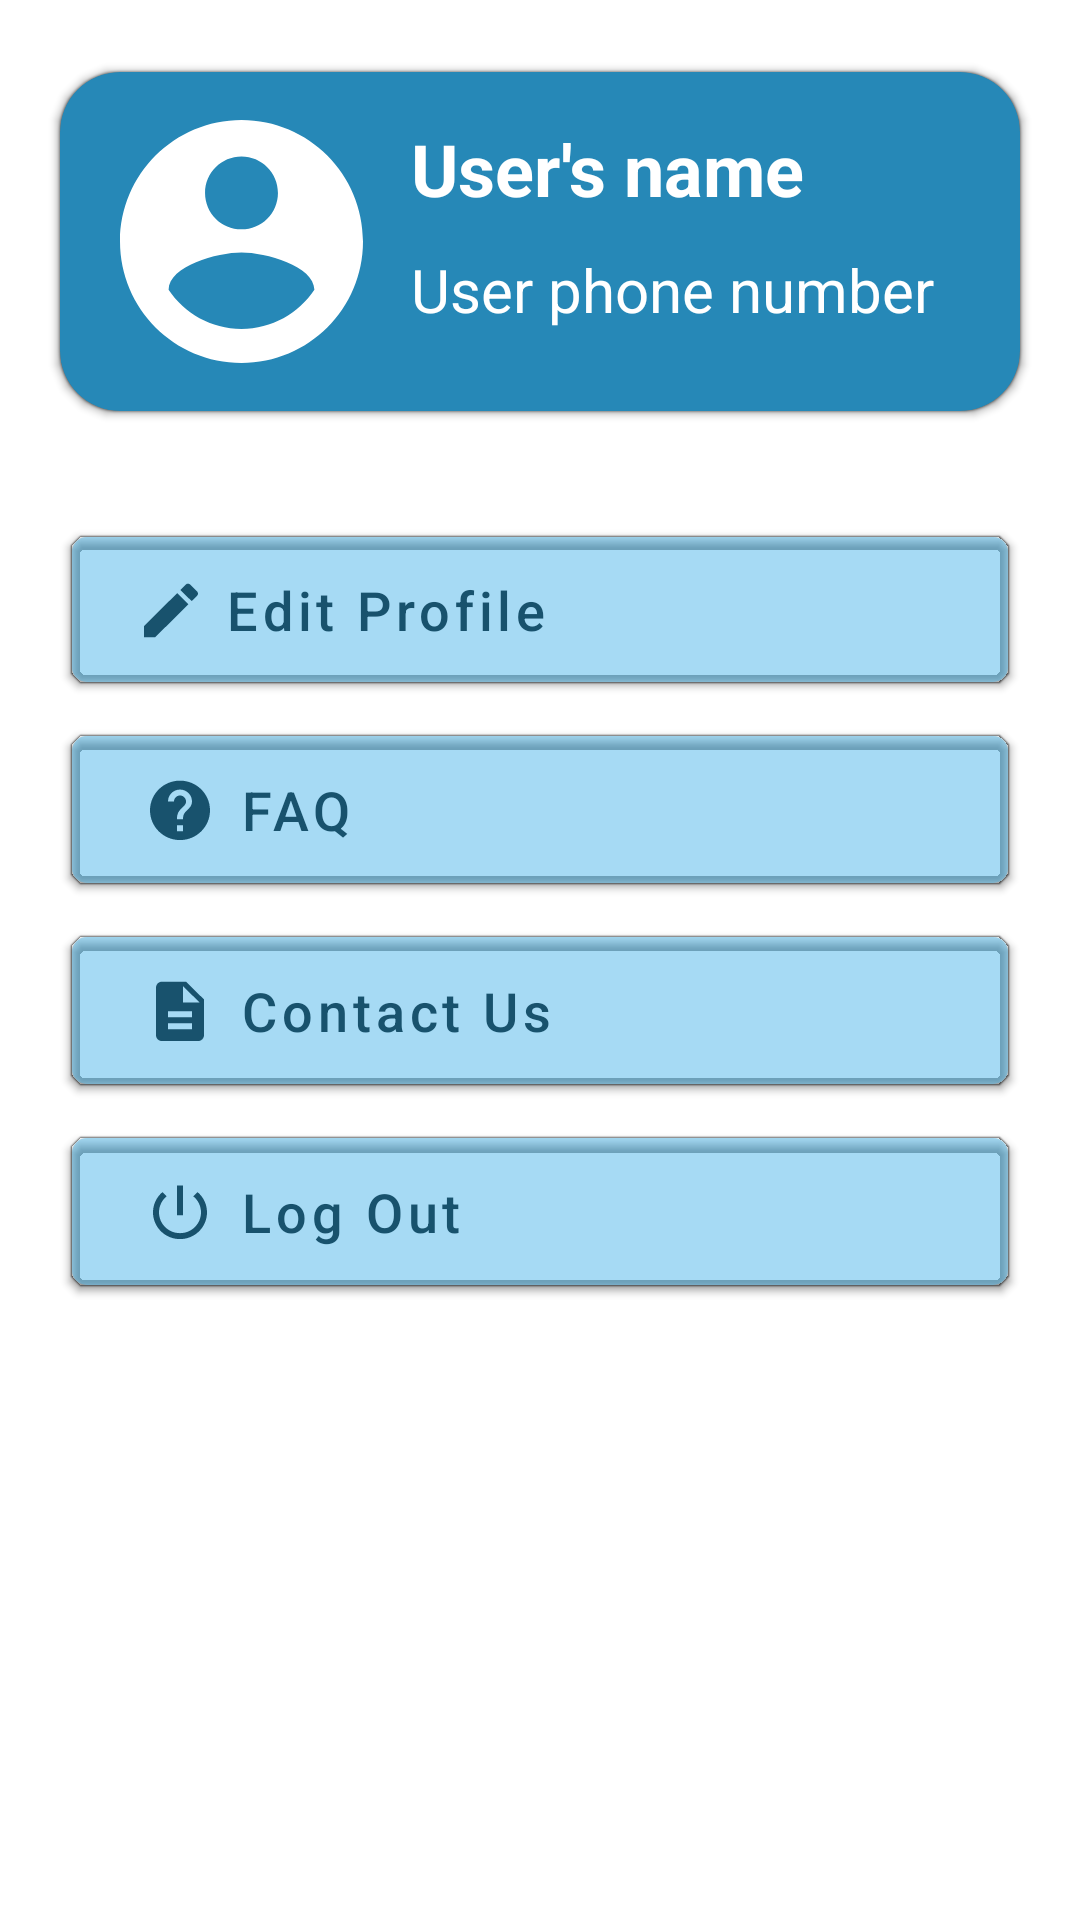

Icons on this 1080w x 1920h Android screen, each with the point to tap as (x,y):
blank profile picture: (241,241)
